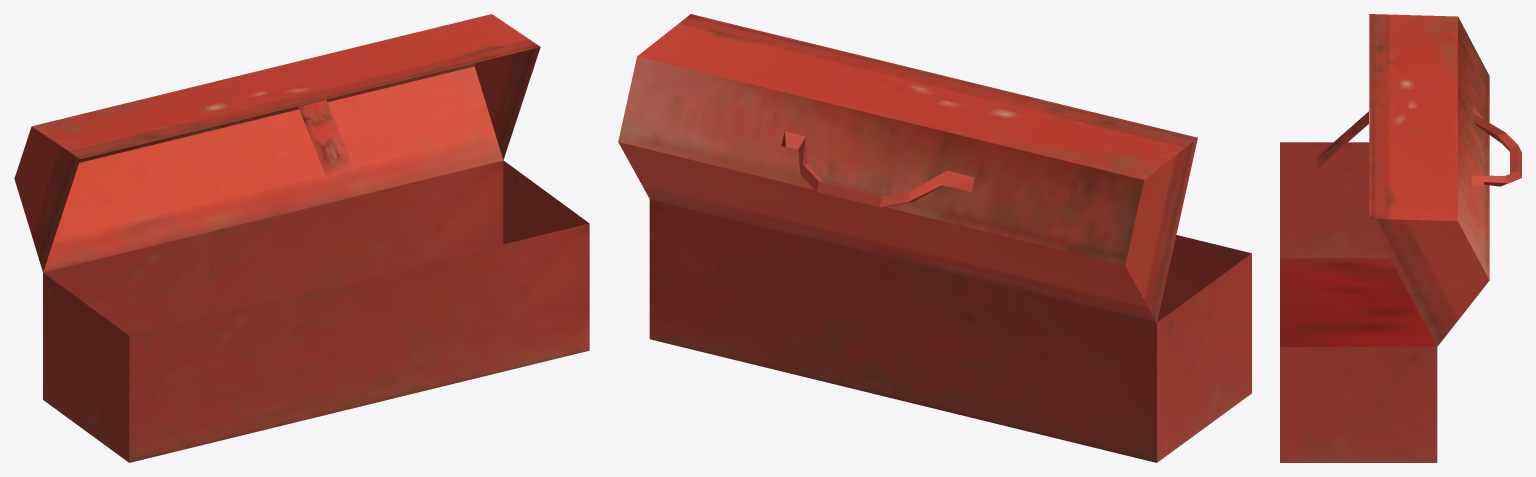
3 renders of one model, left to right at view 1: azimuth 30°, elevation 25°; view 2: azimuth 150°, elevation 25°; view 3: azimuth 270°, elevation 25°, orthographic. The views are drawn at different scales.
Visible parts, largest first — view 1: ToolBox; view 2: ToolBox; view 3: ToolBox.
Part boxes in pixels (x1,y1,x2,y2): ToolBox: [14, 14, 589, 462]; ToolBox: [618, 14, 1251, 462]; ToolBox: [1280, 14, 1521, 462].
Size of the model in its own units: 1.95 by 1.08 by 0.9731.
Materials: 1 (1 with a texture image).
